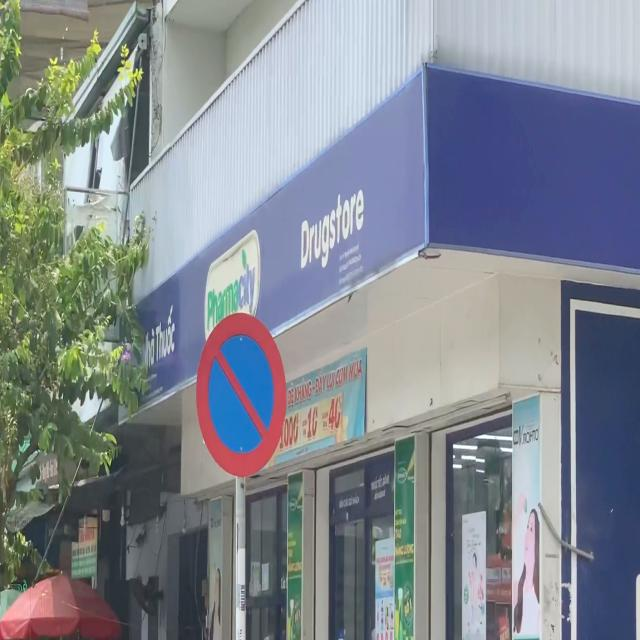Cam do: (198, 306, 288, 479)
